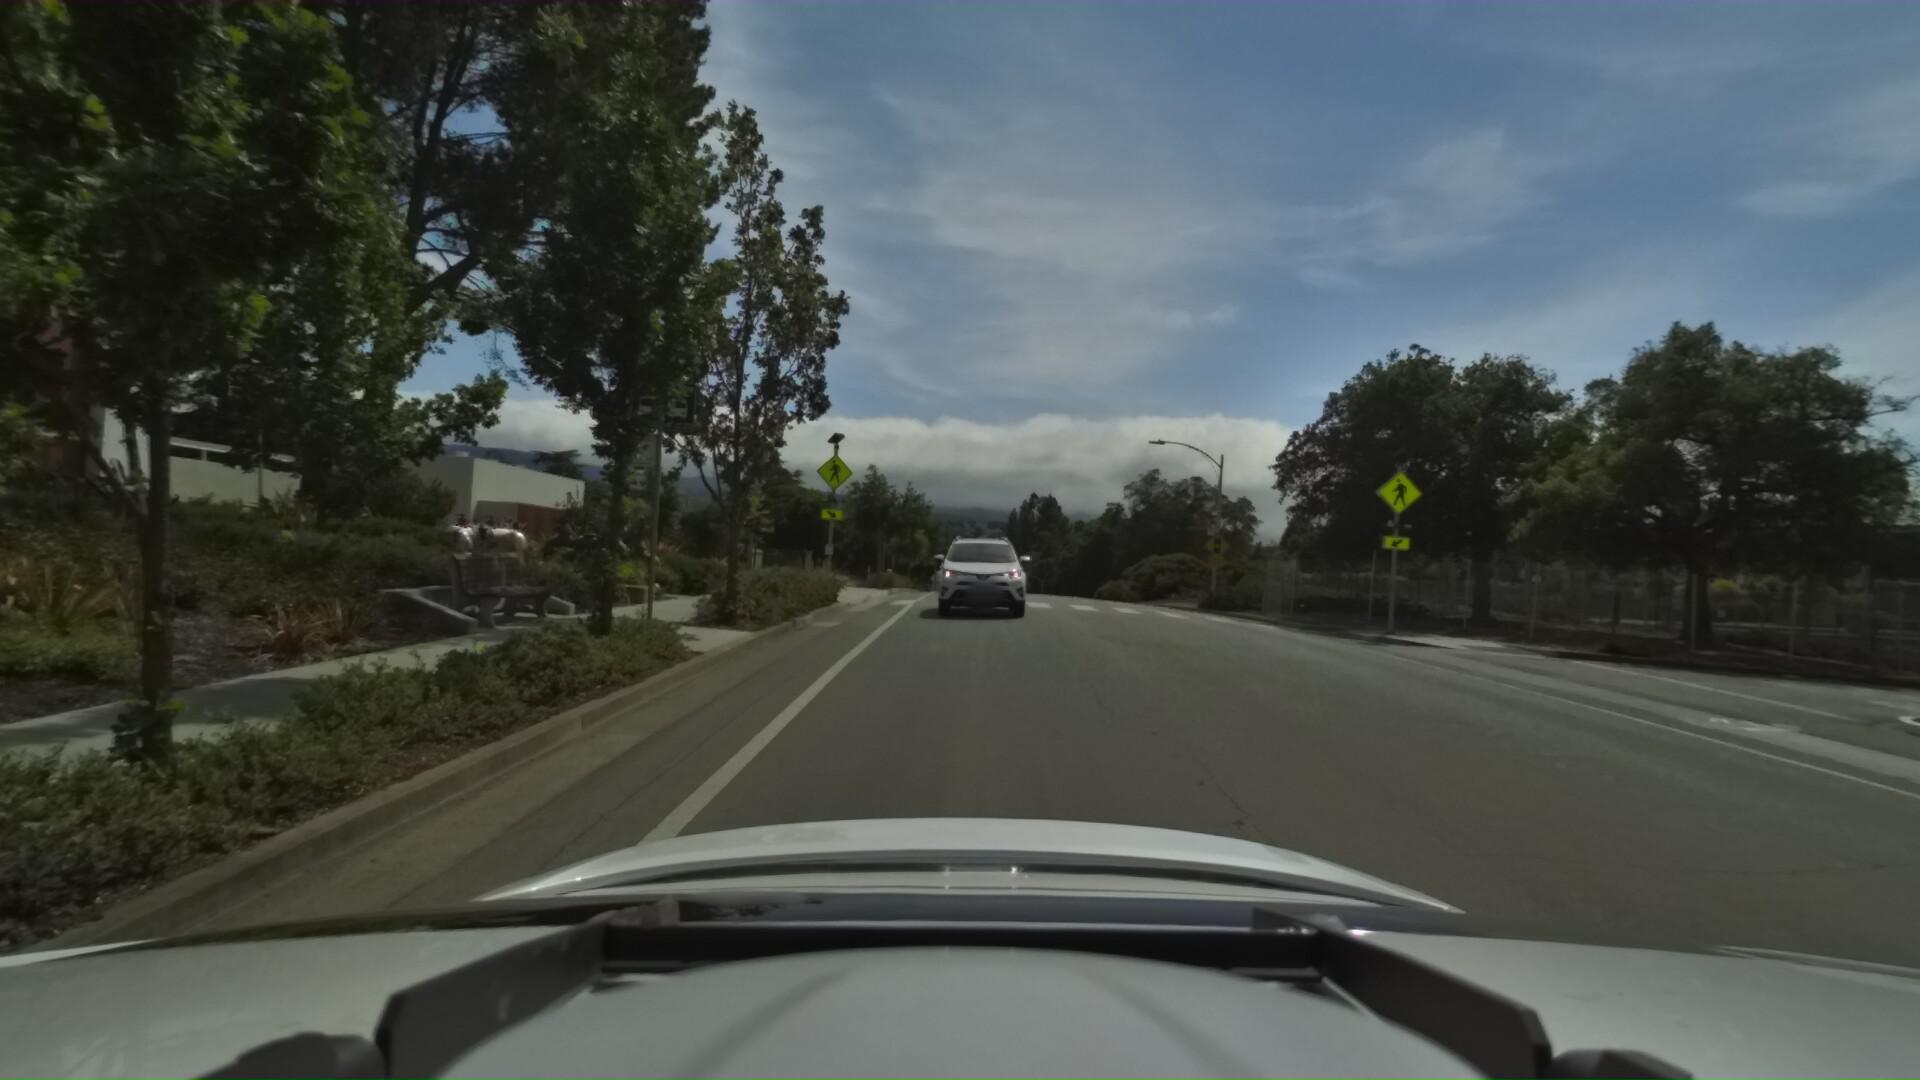car: (928, 512, 1038, 624)
